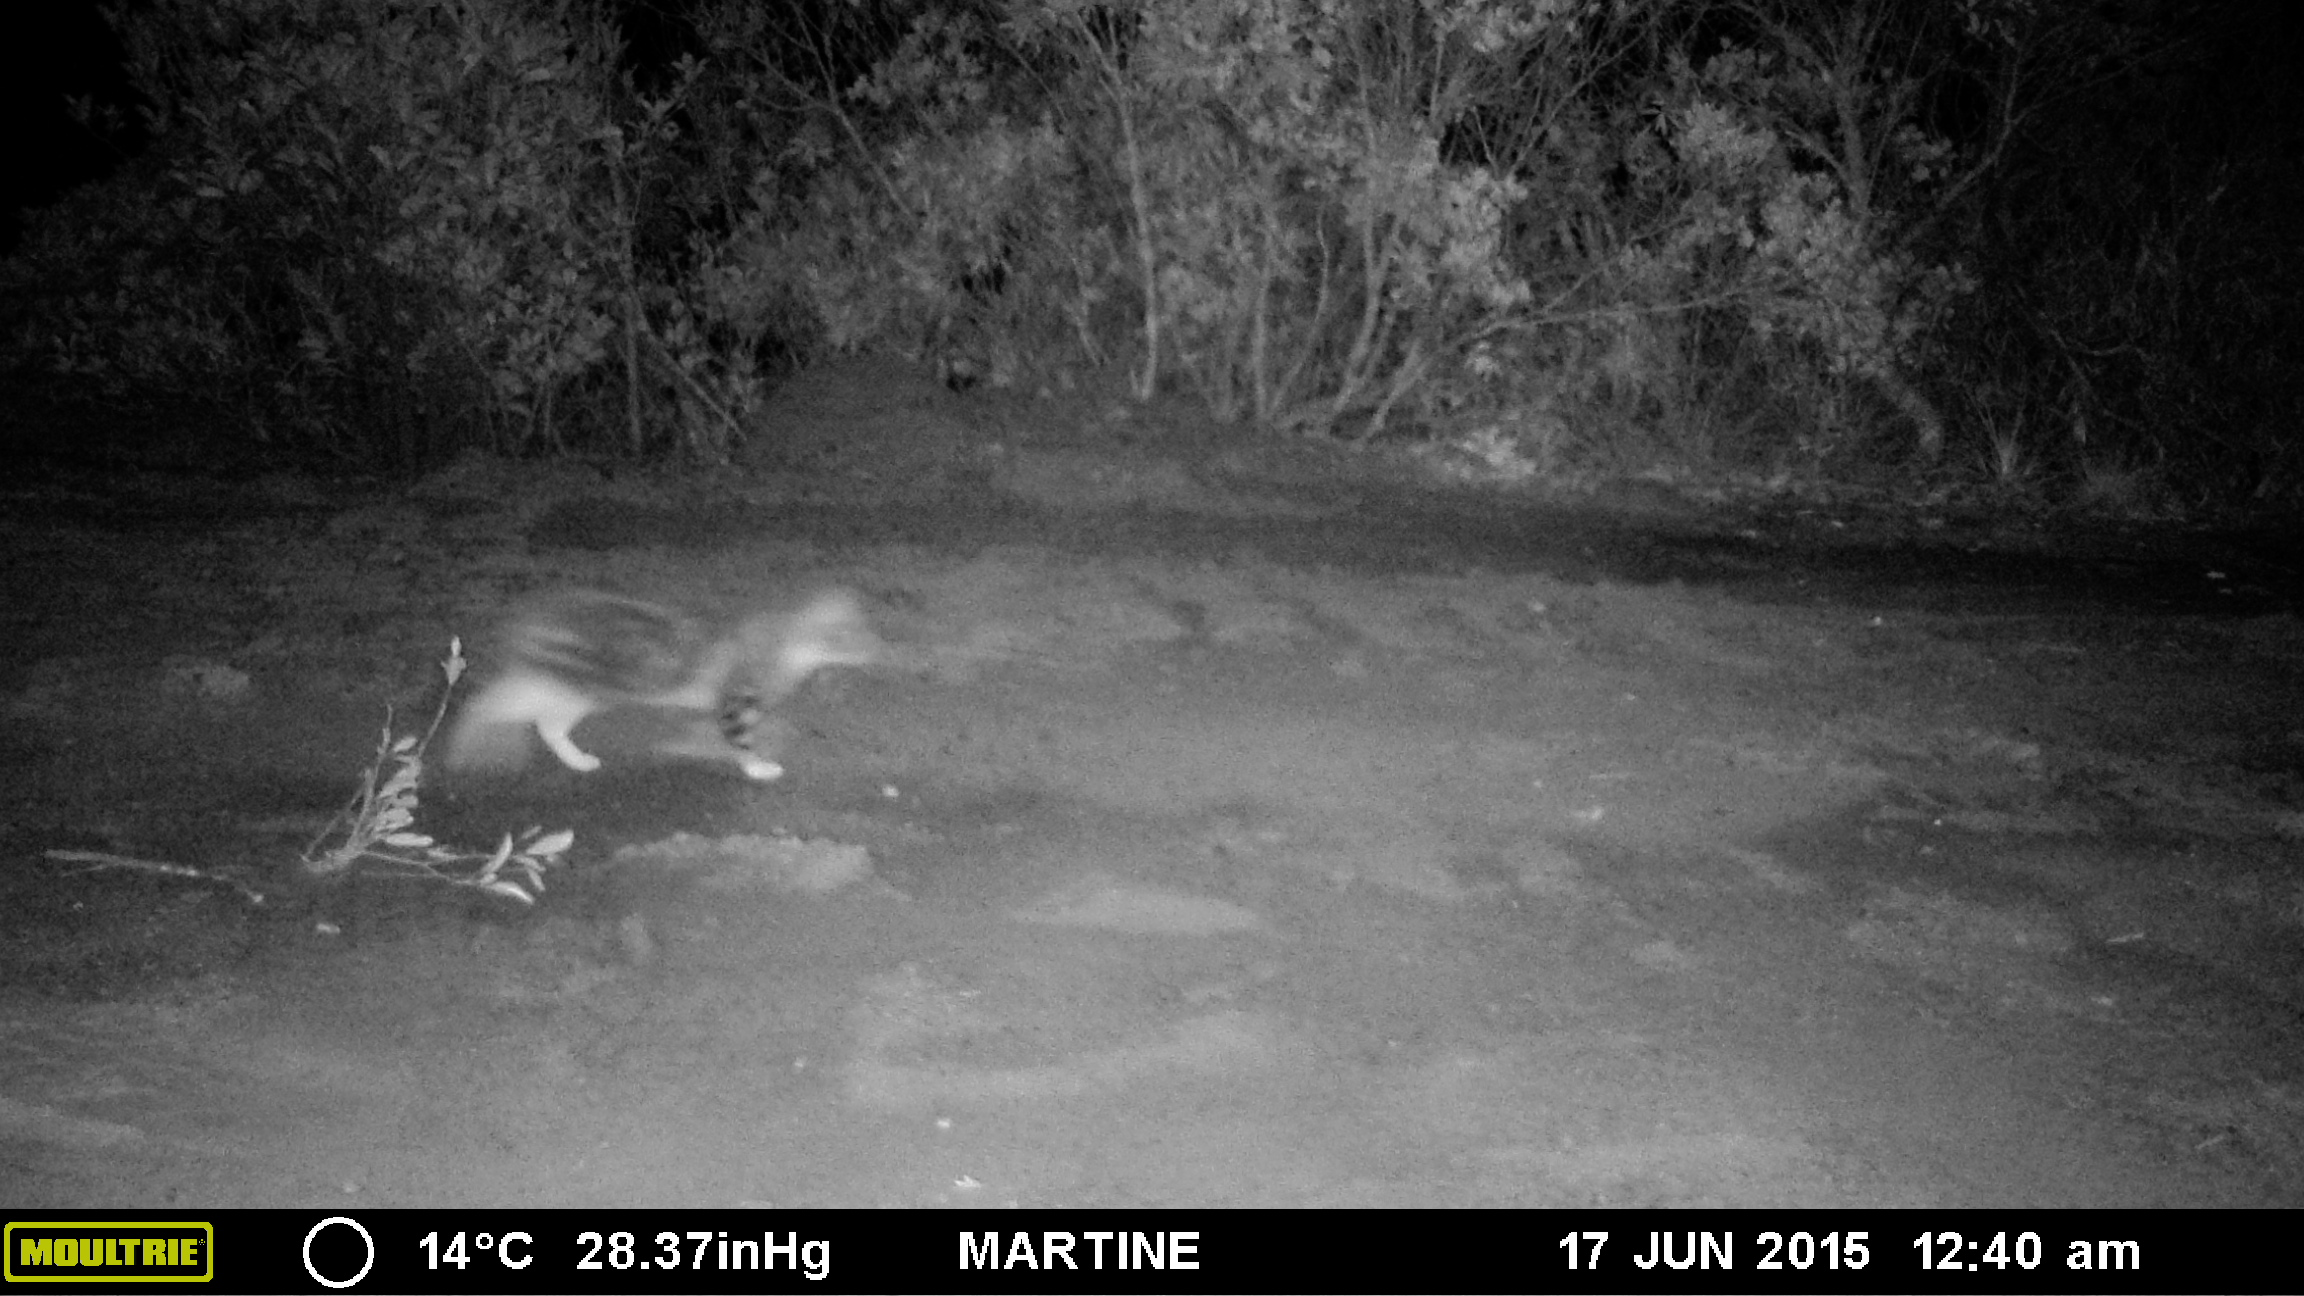cat: (411, 574, 889, 788)
